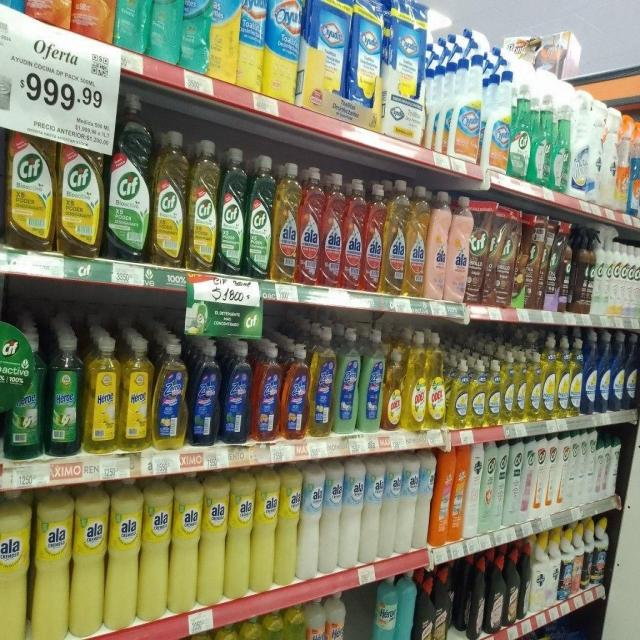ala_conc_amarillo: (273, 161, 298, 282), (384, 179, 406, 295), (406, 184, 426, 297)
ala_conc_rojo: (298, 165, 320, 285), (343, 177, 364, 291), (322, 172, 342, 287), (364, 182, 383, 293)
ala_crem_amarillo: (32, 487, 71, 640), (72, 481, 107, 638), (108, 478, 140, 630), (0, 488, 30, 640), (141, 475, 170, 622), (172, 473, 200, 613), (201, 470, 226, 606), (253, 464, 277, 592)
ala_crem_blanco: (342, 457, 362, 568), (322, 459, 341, 574), (363, 456, 382, 564), (398, 450, 416, 557), (382, 453, 399, 560), (417, 448, 432, 550)
ala_ultra_rosa: (447, 194, 469, 302), (426, 190, 446, 300)
cif_conc_bot_amarilla: (6, 107, 56, 250), (58, 118, 104, 257), (152, 129, 186, 267), (188, 139, 218, 271)
cif_conc_botella_verde: (107, 92, 151, 261), (219, 145, 245, 276), (247, 153, 272, 280), (510, 80, 530, 180)
heroe: (121, 334, 152, 450), (369, 577, 396, 640), (326, 592, 346, 640), (306, 596, 326, 640), (284, 602, 305, 640)
magistral_con_amarillo: (449, 357, 468, 428), (555, 336, 569, 417), (470, 358, 486, 428), (542, 338, 555, 419), (486, 358, 501, 426), (570, 334, 582, 416), (527, 351, 541, 421), (501, 351, 514, 424), (514, 351, 526, 422)
magistral_con_azul: (583, 329, 597, 414), (611, 330, 625, 410), (598, 330, 610, 412), (626, 332, 637, 409)
odex: (405, 330, 426, 430), (384, 335, 404, 431), (427, 331, 446, 428)
zorro: (154, 336, 188, 450), (190, 338, 221, 446), (223, 339, 251, 444), (252, 341, 281, 442), (310, 326, 334, 438), (335, 327, 359, 434), (283, 342, 308, 440), (360, 328, 382, 433)
